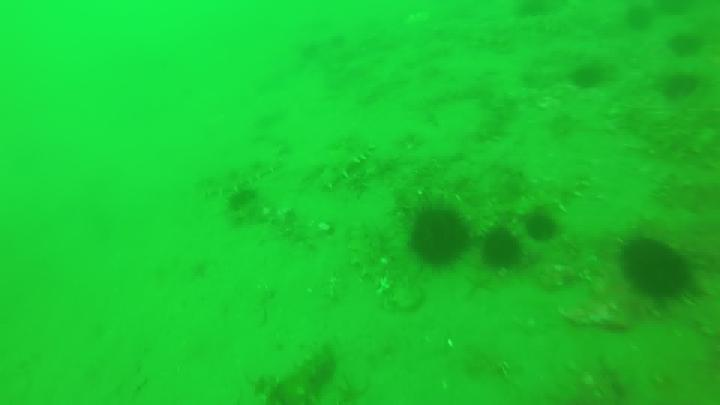echinus: (411, 202, 469, 270), (624, 243, 691, 301), (481, 226, 518, 269), (667, 71, 702, 100), (567, 66, 607, 88), (622, 6, 654, 32), (667, 29, 701, 53), (533, 212, 554, 243)
holothurian: (181, 154, 282, 201), (258, 347, 337, 405), (319, 125, 380, 197), (555, 157, 593, 210)
